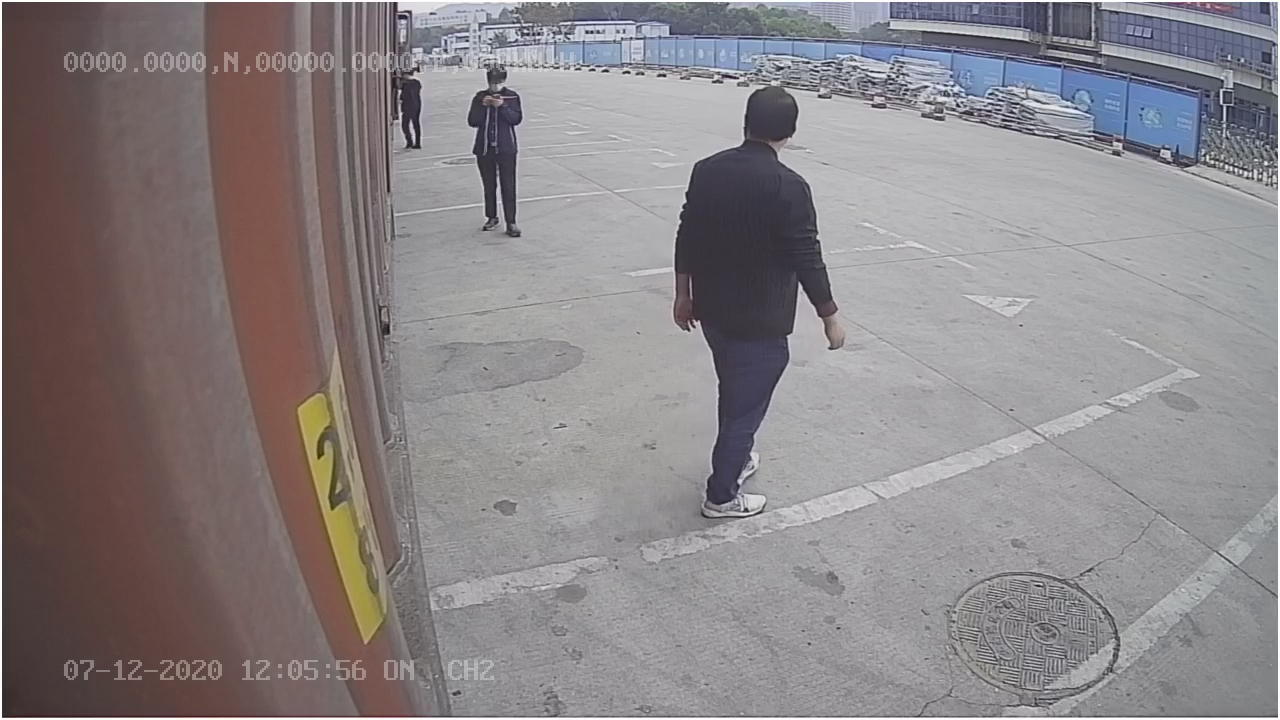person: (670, 81, 852, 523)
